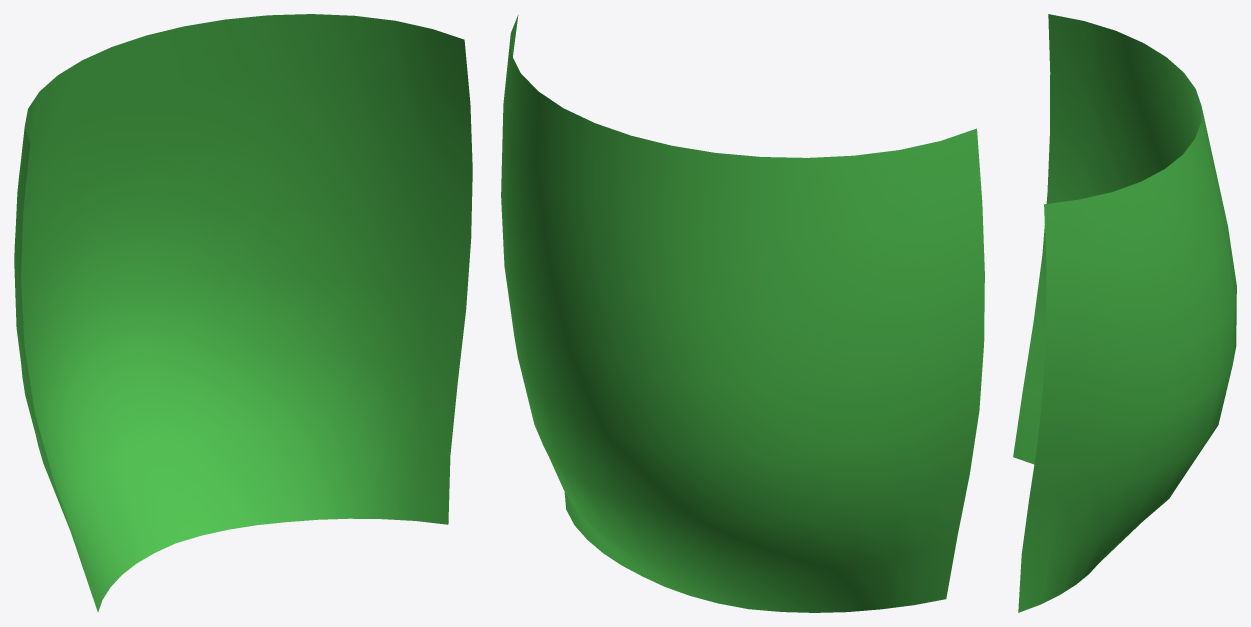
Rendered from chlorophyte_mask.glb.
3 views of the same model, side by side, from view 1: azimuth 30°, elevation 25°; view 2: azimuth 150°, elevation 25°; view 3: azimuth 270°, elevation 25° (orthographic). The views are drawn at different scales.
Visible parts, largest first — view 1: chlorophyte_mask_head; view 2: chlorophyte_mask_head; view 3: chlorophyte_mask_head.
Boxes of the visible parts, box(x1,y1,x2,y2) form: chlorophyte_mask_head: box(14, 14, 472, 612); chlorophyte_mask_head: box(501, 15, 984, 612); chlorophyte_mask_head: box(1013, 14, 1236, 612).
Size of the model in its own units: 0.2137 by 0.213 by 0.102.
